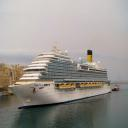cruises: (10, 41, 113, 108)
